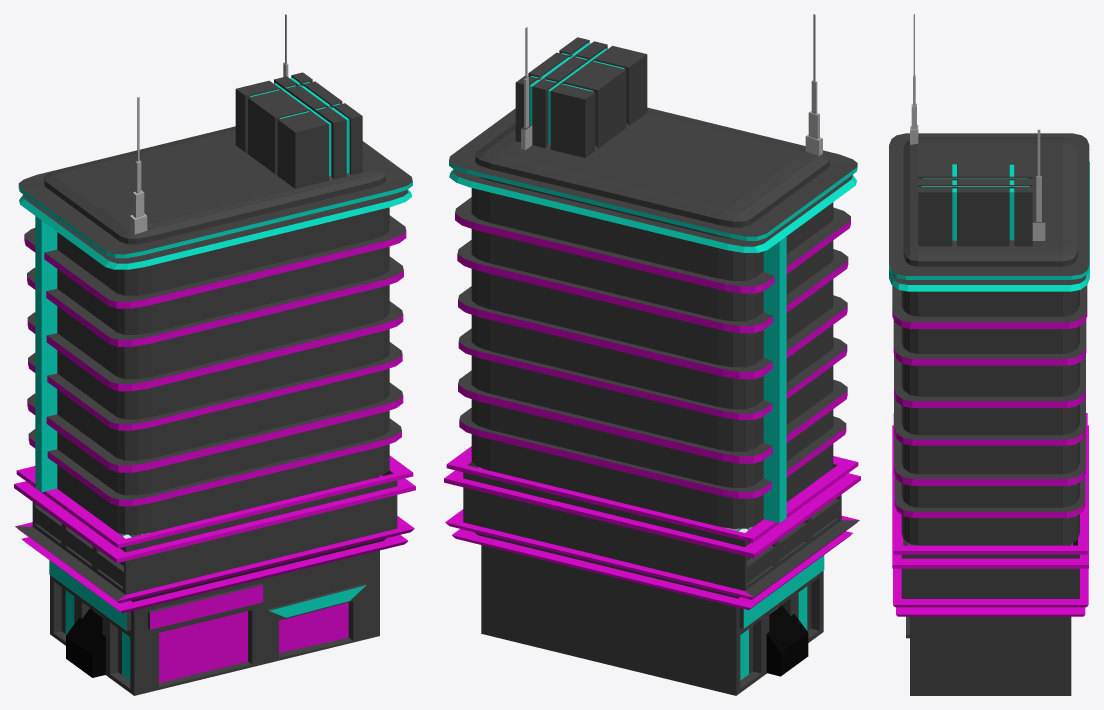
The model's file is GeometryBuildings.fbx.
The picture shows the model from 3 angles, left to right: view 1: azimuth 30°, elevation 25°; view 2: azimuth 150°, elevation 25°; view 3: azimuth 270°, elevation 25°; orthographic projection. The views are drawn at different scales.
Visible parts, largest first — view 1: Building 4, Building 2; view 2: Building 4, Building 2; view 3: Building 4.
Part boxes in pixels (<box>): Building 4: <box>14,14,415,695</box>; Building 2: <box>66,532,150,677</box>; Building 4: <box>444,14,860,695</box>; Building 2: <box>721,527,808,676</box>; Building 4: <box>889,14,1089,695</box>.
Size of the model in its own units: 5368 by 10006 by 3191.
